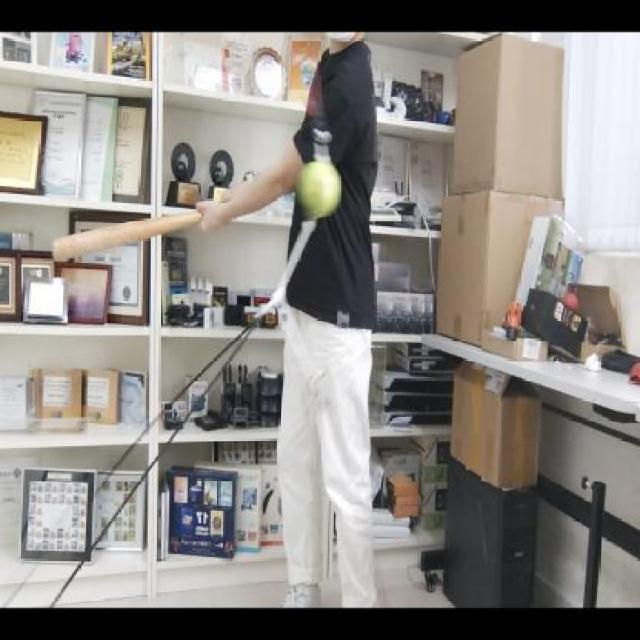baseball: (303, 164, 343, 210)
